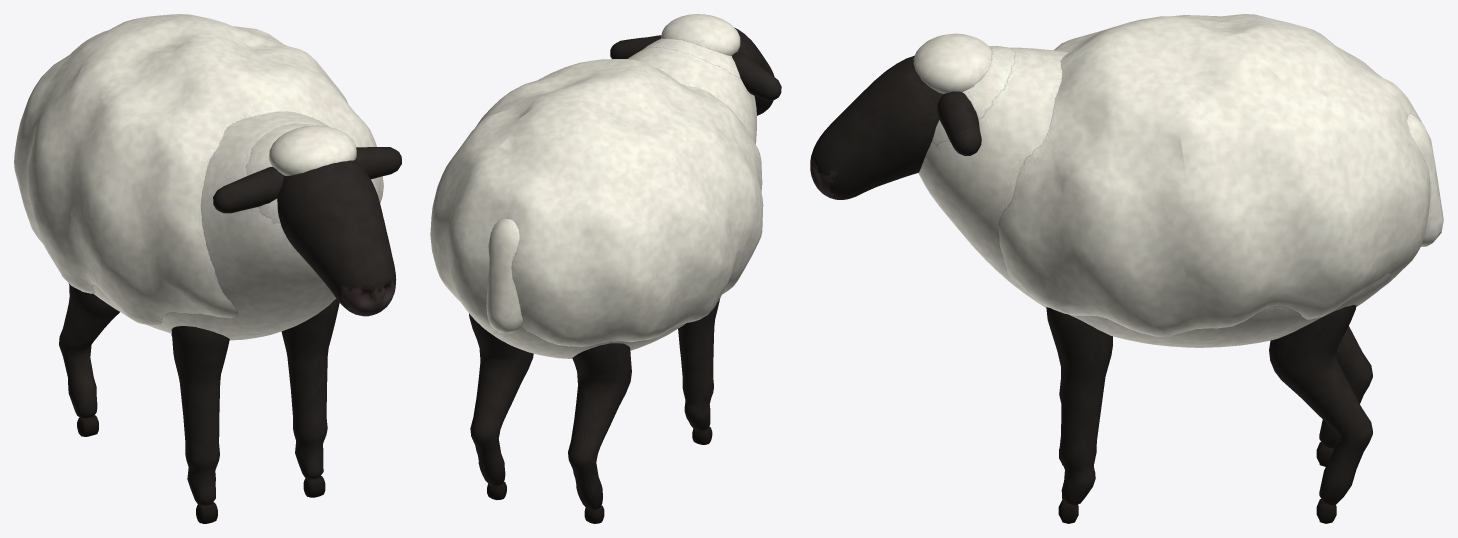
File: animal_sheep.glb
The picture shows the model from 3 angles, left to right: view 1: azimuth 30°, elevation 25°; view 2: azimuth 150°, elevation 25°; view 3: azimuth 270°, elevation 25°; orthographic projection. The views are drawn at different scales.
Parts seen in each view (by area): view 1: animal_sheep, head, leg0, leg1, leg2; view 2: animal_sheep, leg2, leg3, head, leg0, tail; view 3: animal_sheep, head, leg3, leg1, leg2, tail.
Part boxes in pixels (x1,y1,x2,y2): animal_sheep: (14, 14, 383, 340); head: (213, 125, 401, 316); leg0: (171, 326, 229, 523); leg1: (281, 298, 339, 497); leg2: (59, 283, 119, 436); animal_sheep: (430, 38, 763, 358); leg2: (568, 343, 631, 523); leg3: (469, 313, 533, 499); head: (610, 14, 781, 115); leg0: (678, 298, 720, 444); tail: (486, 218, 522, 333); animal_sheep: (918, 14, 1430, 347); head: (810, 33, 992, 199); leg3: (1269, 305, 1372, 523); leg1: (1046, 307, 1112, 523); leg2: (1316, 326, 1372, 466); tail: (1407, 114, 1443, 246).
Size of the model in its own units: 0.3047 by 0.4191 by 0.5169.
1 material, 1 textured.
